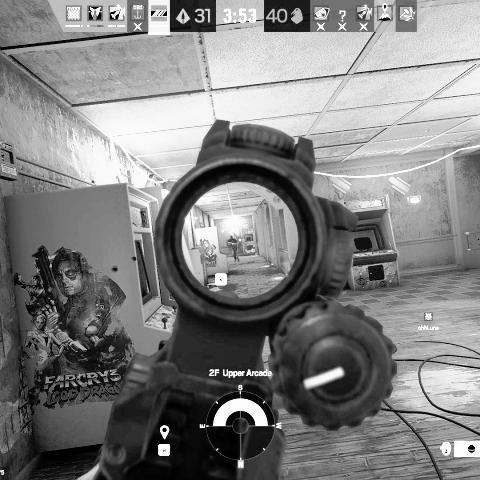Character: (227, 235, 240, 263)
Friend_label: (418, 311, 440, 331)
Head: (230, 235, 233, 239)
